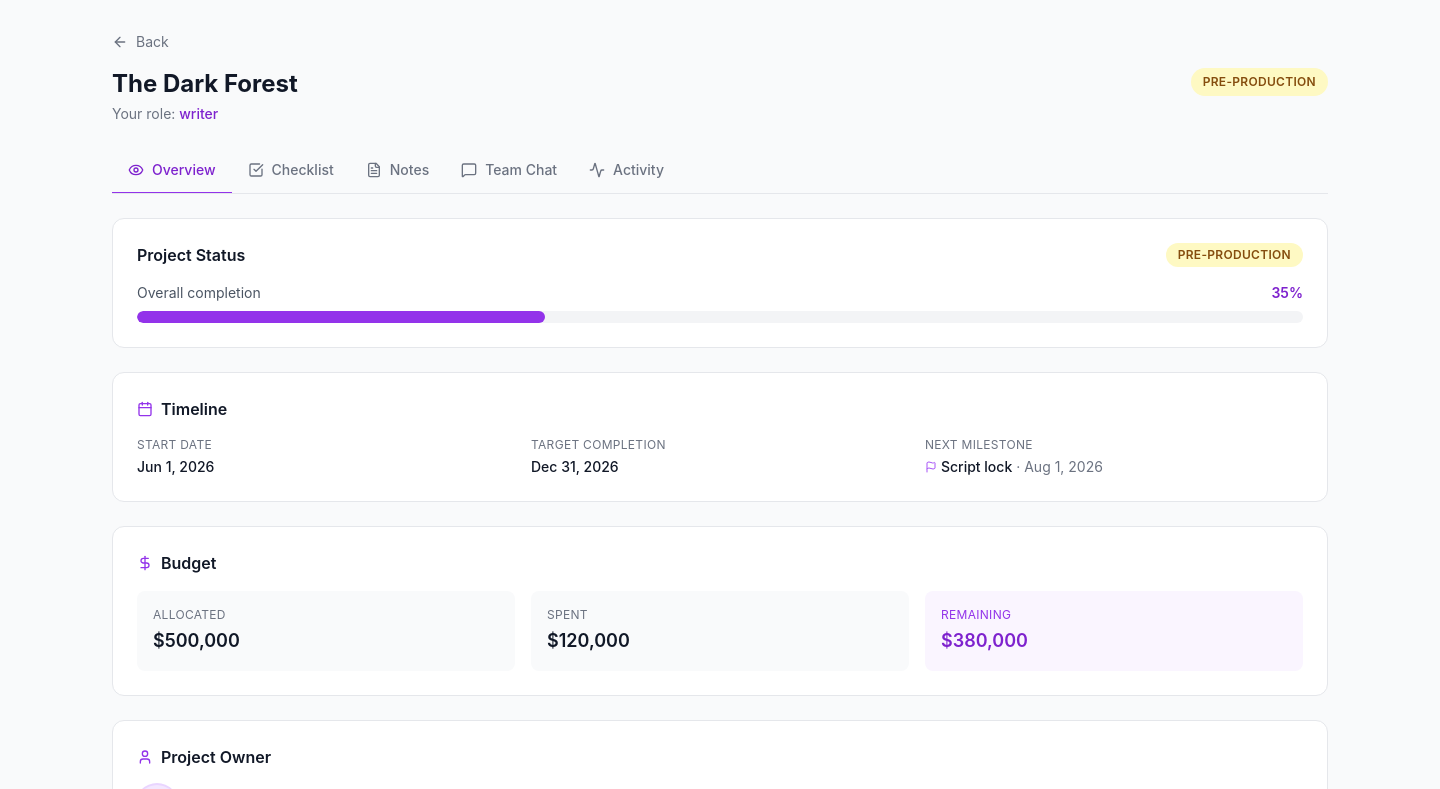
Test case: CollaborationProjectView › Checklist tab › shows a spinner while the checklist is loading
Click the button "Checklist" at (291, 171), box [232,148,350,194]
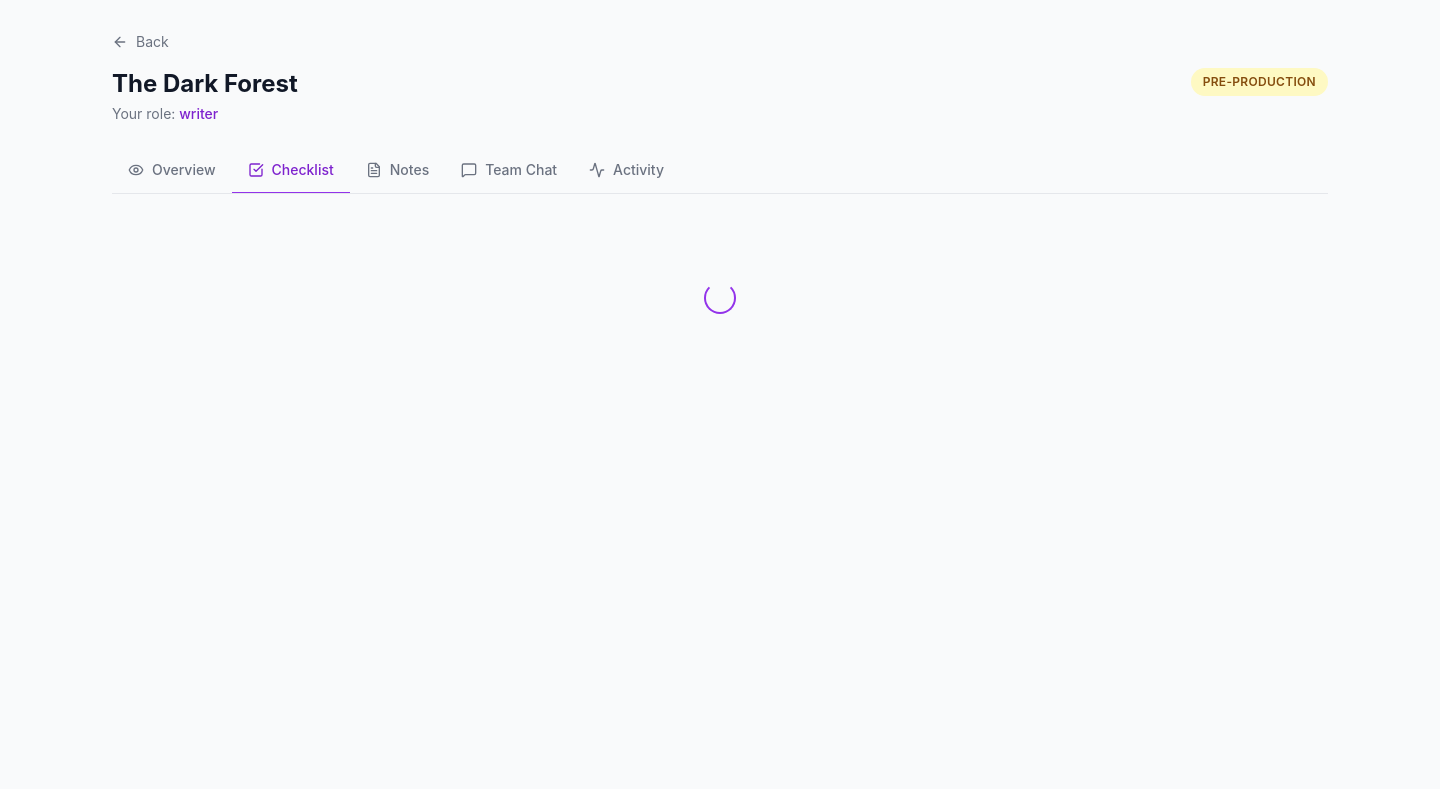
Check: the element with class "animate-spin" is shown, box [704,282,736,314]
